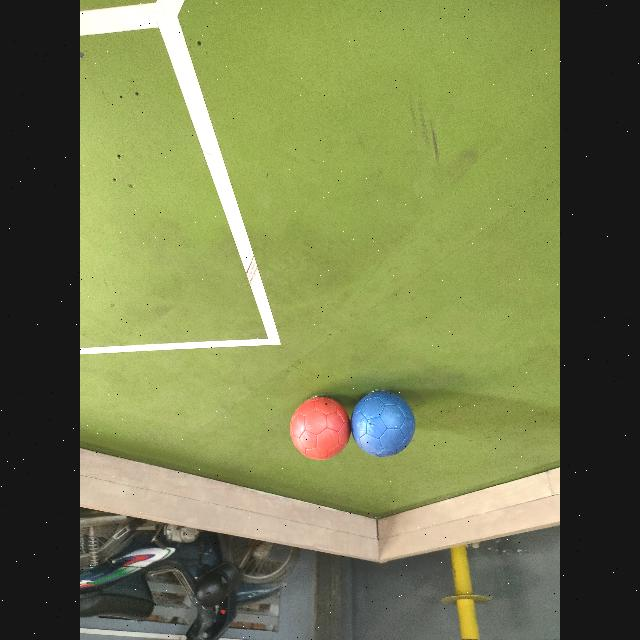B: (352, 390, 415, 457)
R: (290, 397, 351, 460)
